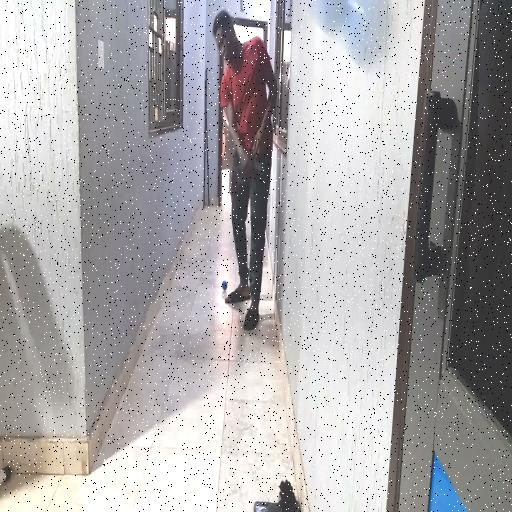plastic-ball: (306, 0, 395, 71)
